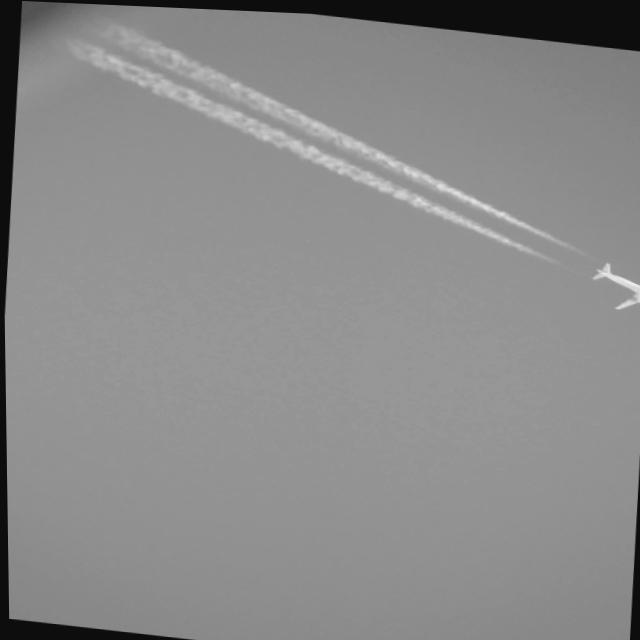aeroplane: (583, 252, 640, 313)
